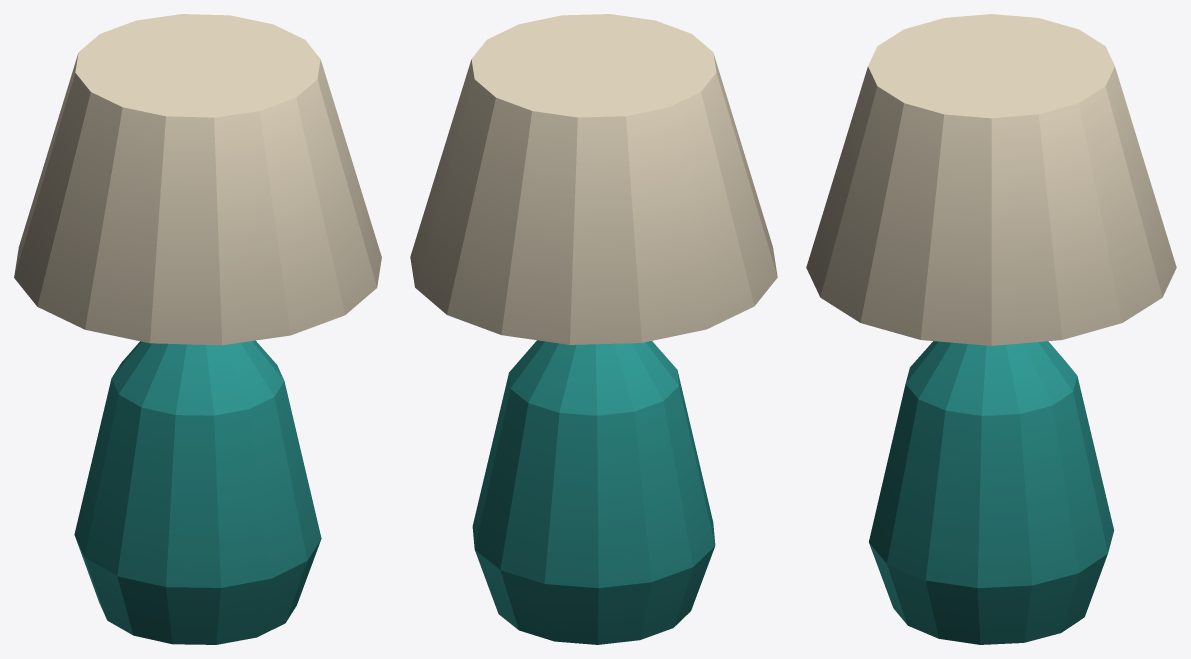
Rendered from table_lamp_01.glb.
The picture shows the model from 3 angles, left to right: view 1: azimuth 30°, elevation 25°; view 2: azimuth 150°, elevation 25°; view 3: azimuth 270°, elevation 25°; orthographic projection.
Parts seen in each view (by area): view 1: table_lamp_01_LOD0; view 2: table_lamp_01_LOD0; view 3: table_lamp_01_LOD0.
Part boxes in pixels (x1,y1,x2,y2): table_lamp_01_LOD0: [14, 14, 381, 644]; table_lamp_01_LOD0: [410, 14, 777, 644]; table_lamp_01_LOD0: [806, 14, 1176, 644].
Size of what is drawn, in the model's own units: 0.3 by 0.48 by 0.3.
Materials: 1 (1 with a texture image).
